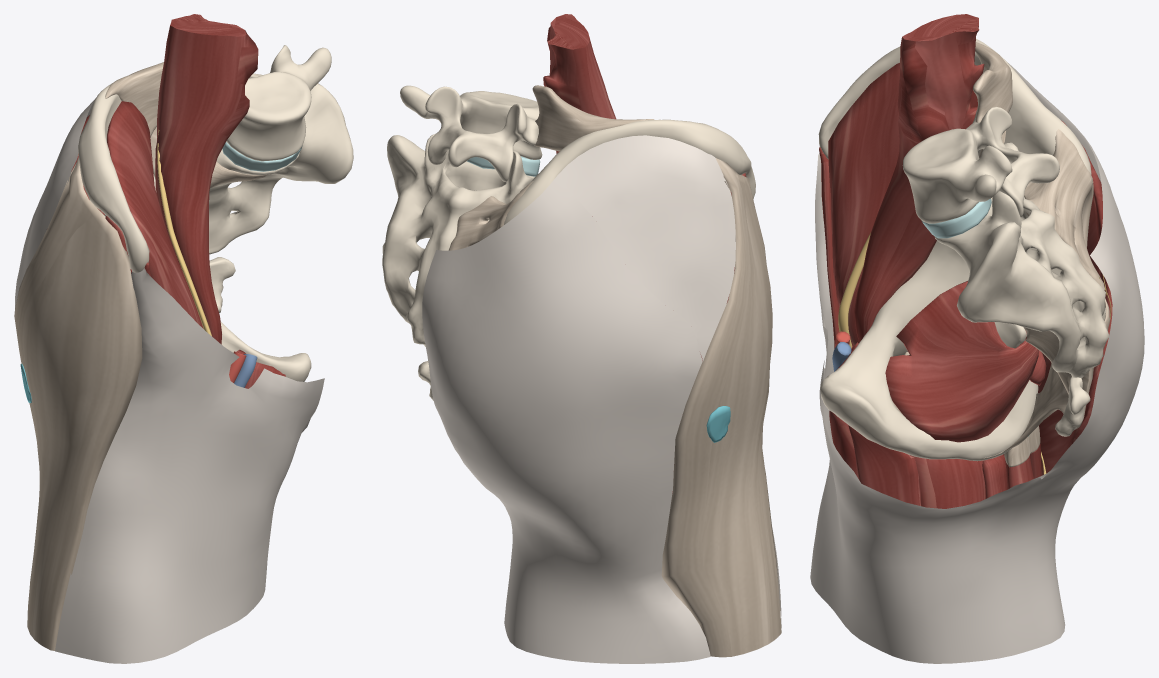
The model's file is hip-atlas.glb.
3 views of the same model, side by side, from view 1: azimuth 30°, elevation 25°; view 2: azimuth 150°, elevation 25°; view 3: azimuth 270°, elevation 25° (orthographic). The views are drawn at different scales.
Parts seen in each view (by area): view 1: Fascia lata, Iliotibial tract, Psoas major, Sacrum, Lumbar vertebra (L5), Iliacus muscle, Hip bone, Gluteal aponeurosis, Iliolumbar ligament, Femoral nerve, Annulus fibrosus L5 S1, Anterior sacro-iliac ligament (+1 smaller); view 2: Fascia lata, Iliotibial tract, Gluteal aponeurosis, Sacrum, Lumbar vertebra (L5), Hip bone, Psoas major, Iliolumbar ligament, Interossea / Posterior sacro-iliac ligament, Subcutaneous trochanteric bursa; view 3: Fascia lata, Hip bone, Sacrum, Psoas major, Obturator internus, Iliacus muscle, Lumbar vertebra (L5), Interossea / Posterior sacro-iliac ligament, Gluteus maximus muscle, Gracilis muscle, Adductor magnus, Sacrotuberal ligament (+10 smaller).
Boxes of the visible parts, left/top/right/bottom form: Fascia lata: left=15, top=114, right=324, bottom=663; Iliotibial tract: left=14, top=158, right=142, bottom=650; Psoas major: left=155, top=14, right=258, bottom=344; Sacrum: left=209, top=83, right=353, bottom=254; Lumbar vertebra (L5): left=226, top=45, right=331, bottom=161; Iliacus muscle: left=107, top=101, right=203, bottom=328; Hip bone: left=78, top=83, right=311, bottom=381; Gluteal aponeurosis: left=16, top=98, right=95, bottom=301; Iliolumbar ligament: left=105, top=62, right=163, bottom=137; Femoral nerve: left=157, top=129, right=211, bottom=335; Annulus fibrosus L5 S1: left=222, top=142, right=302, bottom=171; Anterior sacro-iliac ligament: left=150, top=127, right=266, bottom=188; Fascia lata: left=422, top=175, right=781, bottom=663; Iliotibial tract: left=661, top=158, right=781, bottom=657; Gluteal aponeurosis: left=557, top=135, right=735, bottom=360; Sacrum: left=382, top=133, right=534, bottom=346; Lumbar vertebra (L5): left=400, top=85, right=542, bottom=181; Hip bone: left=504, top=119, right=755, bottom=224; Psoas major: left=543, top=14, right=616, bottom=153; Iliolumbar ligament: left=532, top=85, right=654, bottom=151; Interossea / Posterior sacro-iliac ligament: left=448, top=181, right=533, bottom=250; Subcutaneous trochanteric bursa: left=706, top=406, right=730, bottom=442; Fascia lata: left=810, top=108, right=1144, bottom=663; Hip bone: left=818, top=39, right=1091, bottom=461; Sacrum: left=934, top=142, right=1109, bottom=377; Psoas major: left=854, top=14, right=984, bottom=342; Obturator internus: left=885, top=281, right=1038, bottom=442; Iliacus muscle: left=828, top=63, right=977, bottom=346; Lumbar vertebra (L5): left=902, top=106, right=1059, bottom=223; Interossea / Posterior sacro-iliac ligament: left=1024, top=129, right=1109, bottom=348; Gluteus maximus muscle: left=1003, top=120, right=1112, bottom=475; Gracilis muscle: left=848, top=425, right=921, bottom=505; Adductor magnus: left=912, top=456, right=985, bottom=508; Sacrotuberal ligament: left=983, top=181, right=1093, bottom=458.
Bounding box in the file's own units: 0.2229 × 0.35 × 0.1737.
Materials: 21 (9 with a texture image).
